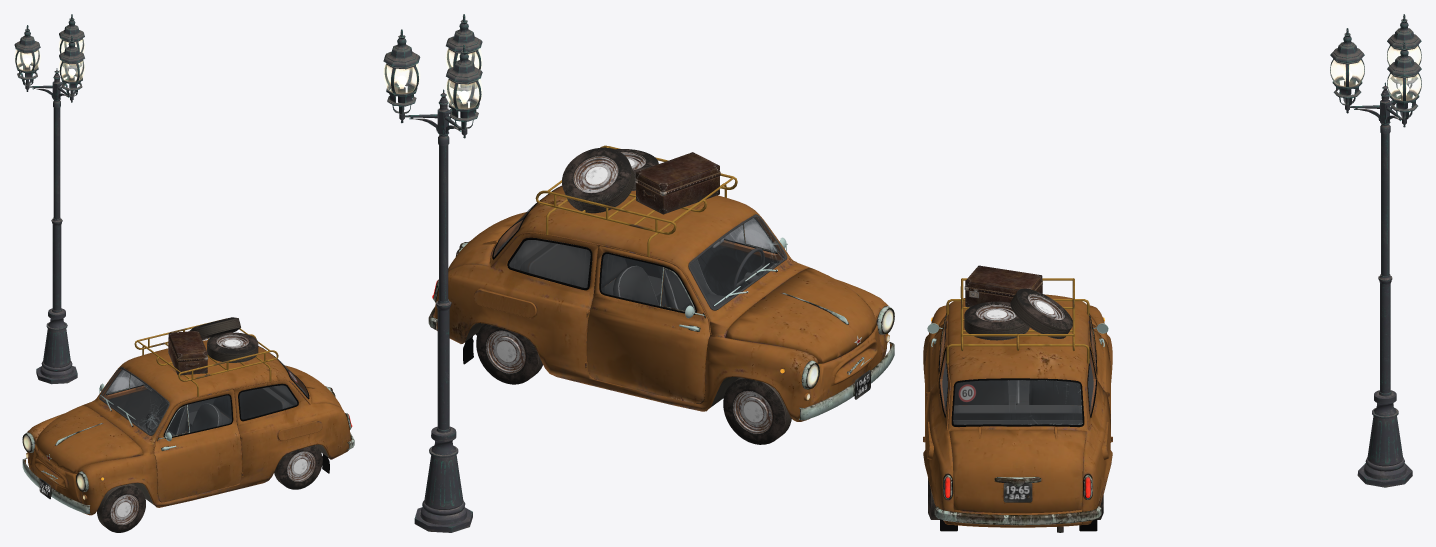
File: taxi.glb
3 renders of one model, left to right at view 1: azimuth 30°, elevation 25°; view 2: azimuth 150°, elevation 25°; view 3: azimuth 270°, elevation 25°, orthographic. The views are drawn at different scales.
Parts seen in each view (by area): view 1: car_body, door_left, hood, interior_01, vintage_lantern_7_base, vintage_lantern_7_lantern_wall_base_1_0, wheel_00, wheel_01, door_right, wheel_004, railings, glass_00 (+7 smaller); view 2: car_body, door_right, hood, interior_01, vintage_lantern_7_base, vintage_lantern_7_lantern_wall_base_1_0, wheel_005, wheel_03, wheel_02, door_left, glass_01, chest_top_chest_0 (+8 smaller); view 3: car_body, back_door, interior_01, vintage_lantern_7_base, vintage_lantern_7_lantern_wall_base_1_0, wheel_005, wheel_004, rear_bumper, railings, chest_top_chest_0, vintage_lantern_glass_7_lantern_wall_glass_1_0, door_left (+1 smaller).
Boxes of the visible parts, x1=… form: car_body: x1=22, y1=340, x2=351, y2=515; door_left: x1=154, y1=389, x2=243, y2=502; hood: x1=35, y1=405, x2=143, y2=473; interior_01: x1=100, y1=368, x2=307, y2=497; vintage_lantern_7_base: x1=25, y1=68, x2=77, y2=384; vintage_lantern_7_lantern_wall_base_1_0: x1=14, y1=14, x2=84, y2=219; wheel_00: x1=97, y1=483, x2=145, y2=532; wheel_01: x1=274, y1=445, x2=322, y2=489; door_right: x1=99, y1=374, x2=162, y2=425; wheel_004: x1=207, y1=332, x2=258, y2=362; railings: x1=134, y1=318, x2=278, y2=397; glass_00: x1=187, y1=395, x2=231, y2=432; car_body: x1=433, y1=185, x2=894, y2=421; door_right: x1=585, y1=246, x2=710, y2=403; hood: x1=725, y1=268, x2=876, y2=363; interior_01: x1=494, y1=216, x2=785, y2=403; vintage_lantern_7_base: x1=399, y1=89, x2=472, y2=532; vintage_lantern_7_lantern_wall_base_1_0: x1=383, y1=14, x2=482, y2=301; wheel_005: x1=562, y1=147, x2=634, y2=213; wheel_03: x1=723, y1=377, x2=791, y2=444; wheel_02: x1=476, y1=323, x2=542, y2=384; door_left: x1=697, y1=224, x2=787, y2=297; glass_01: x1=601, y1=254, x2=663, y2=306; chest_top_chest_0: x1=635, y1=152, x2=720, y2=195; car_body: x1=923, y1=294, x2=1112, y2=531; back_door: x1=949, y1=426, x2=1086, y2=513; interior_01: x1=940, y1=332, x2=1095, y2=427; vintage_lantern_7_base: x1=1345, y1=82, x2=1412, y2=487; vintage_lantern_7_lantern_wall_base_1_0: x1=1330, y1=14, x2=1421, y2=276; wheel_005: x1=1010, y1=288, x2=1072, y2=338; wheel_004: x1=964, y1=301, x2=1029, y2=340; rear_bumper: x1=934, y1=506, x2=1101, y2=525; railings: x1=946, y1=278, x2=1089, y2=363; chest_top_chest_0: x1=964, y1=265, x2=1042, y2=297; vintage_lantern_glass_7_lantern_wall_glass_1_0: x1=1330, y1=46, x2=1421, y2=100; door_left: x1=923, y1=314, x2=946, y2=440.
Size of what is drawn, in the model's own units: 329 by 383 by 386.
Materials: 12 (10 with a texture image).
